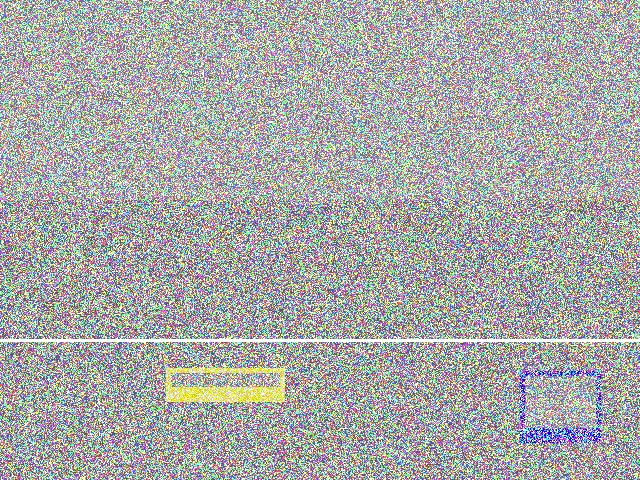bus: (178, 337, 312, 460), (186, 190, 270, 288)
motorcycle: (463, 216, 620, 317)
